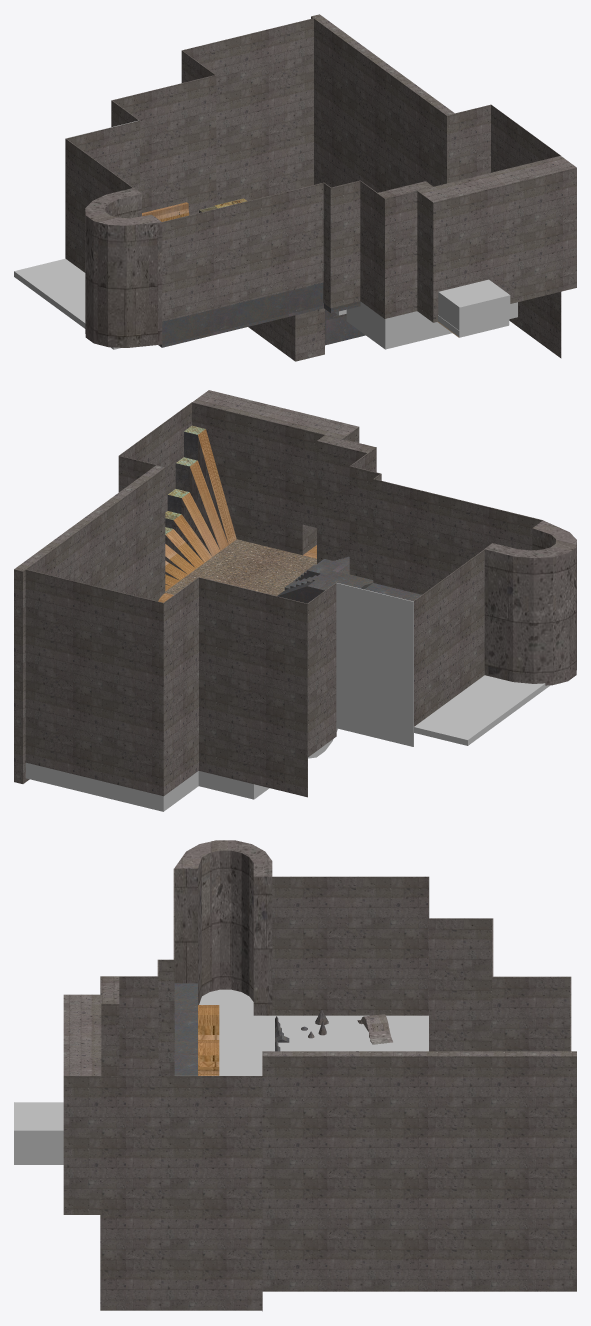
Rendered from testmapv1.obj.
3 renders of one model, top to bottom at view 1: azimuth 30°, elevation 25°; view 2: azimuth 150°, elevation 25°; view 3: azimuth 270°, elevation 25°, orthographic. The views are drawn at different scales.
Visible parts, largest first — view 1: entity0_brush183, entity0_brush196, entity0_brush190, entity0_brush186, entity0_brush194, entity0_brush161, entity0_brush185, entity0_brush198, entity0_brush197, entity0_brush91, entity0_brush191, entity0_brush188 (+17 smaller); view 2: entity0_brush196, entity0_brush194, entity0_brush183, entity0_brush186, entity0_brush190, entity0_brush193, entity0_brush191, entity0_brush195, entity0_brush73, entity0_brush192, entity0_brush197, entity0_brush48 (+19 smaller); view 3: entity0_brush183, entity0_brush185, entity0_brush191, entity0_brush73, entity0_brush192, entity0_brush186, entity0_brush195, entity0_brush187, entity0_brush161, entity0_brush154, entity0_brush91, entity0_brush202 (+9 smaller).
Part boxes in pixels (x1,y1,x2,y2): entity0_brush183: [311, 14, 455, 192]; entity0_brush196: [182, 18, 313, 204]; entity0_brush190: [162, 182, 323, 321]; entity0_brush186: [455, 155, 576, 303]; entity0_brush194: [111, 75, 216, 215]; entity0_brush161: [126, 214, 162, 347]; entity0_brush185: [491, 104, 561, 358]; entity0_brush198: [417, 185, 454, 322]; entity0_brush197: [378, 181, 433, 318]; entity0_brush91: [158, 282, 323, 347]; entity0_brush191: [65, 138, 132, 272]; entity0_brush188: [331, 180, 360, 307]; entity0_brush196: [25, 569, 162, 795]; entity0_brush194: [198, 577, 307, 797]; entity0_brush183: [14, 465, 165, 783]; entity0_brush186: [192, 390, 319, 555]; entity0_brush190: [374, 479, 542, 594]; entity0_brush193: [336, 583, 413, 746]; entity0_brush191: [413, 549, 484, 726]; entity0_brush195: [163, 577, 198, 796]; entity0_brush73: [414, 675, 550, 745]; entity0_brush192: [308, 582, 336, 756]; entity0_brush197: [317, 435, 375, 563]; entity0_brush48: [165, 539, 316, 595]; entity0_brush183: [262, 1051, 576, 1291]; entity0_brush185: [100, 1076, 262, 1310]; entity0_brush191: [272, 876, 428, 1015]; entity0_brush73: [199, 989, 428, 1075]; entity0_brush192: [429, 918, 492, 1051]; entity0_brush186: [63, 1016, 101, 1214]; entity0_brush195: [493, 976, 570, 1051]; entity0_brush187: [100, 976, 158, 1075]; entity0_brush161: [174, 851, 201, 1004]; entity0_brush154: [253, 861, 272, 1015]; entity0_brush91: [174, 983, 197, 1074]; entity0_brush202: [14, 1102, 63, 1145].
Bounding box in the file's own units: 2494 × 1162 × 2516.
